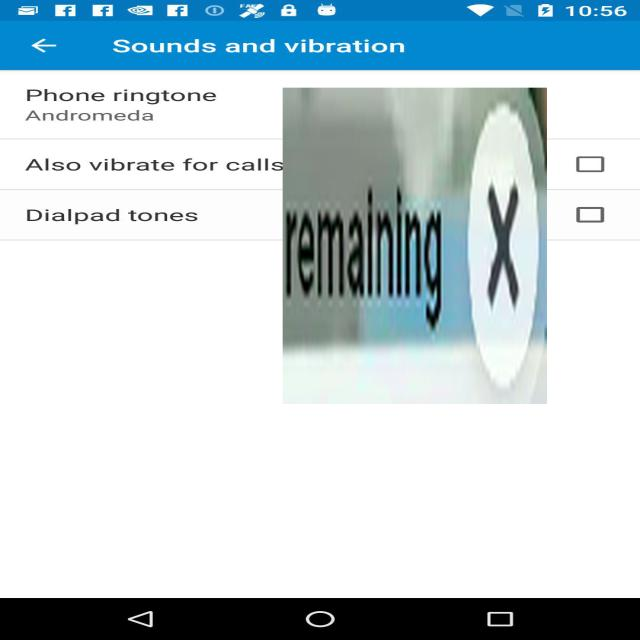misdirection: (283, 88, 547, 404)
